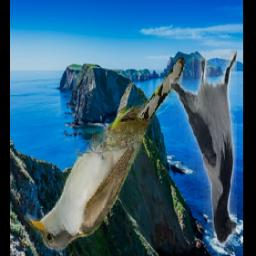Crow: (169, 50, 237, 246)
Cuckoo: (24, 55, 188, 253)
